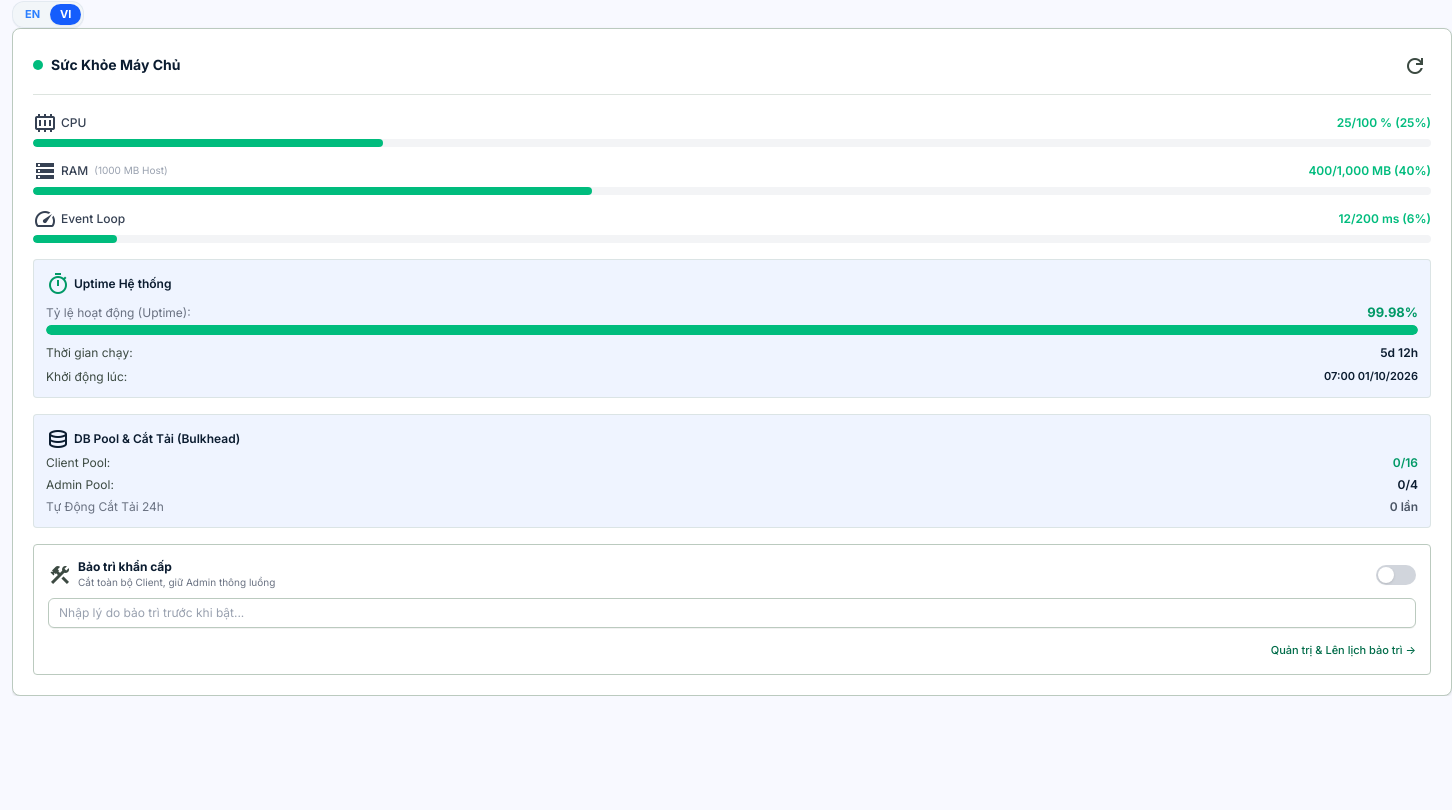
Test: Admin-web Phase 1 i18n Suite — Shared Components, Modals & Layouts › 4. ServerHealthPanel i18n Verification › 4.1. Chuyển đổi chính xác ServerHealthPanel giữa VI và EN
Expected: the heading "Sức Khỏe Máy Chủ" is shown, [51, 55, 180, 75]
Expected: the text "Bảo trì khẩn cấp" is shown, [78, 560, 172, 576]
# Đổi sang EN
Click the button with test id "lang-btn-en" at (33, 14), box [15, 4, 50, 24]
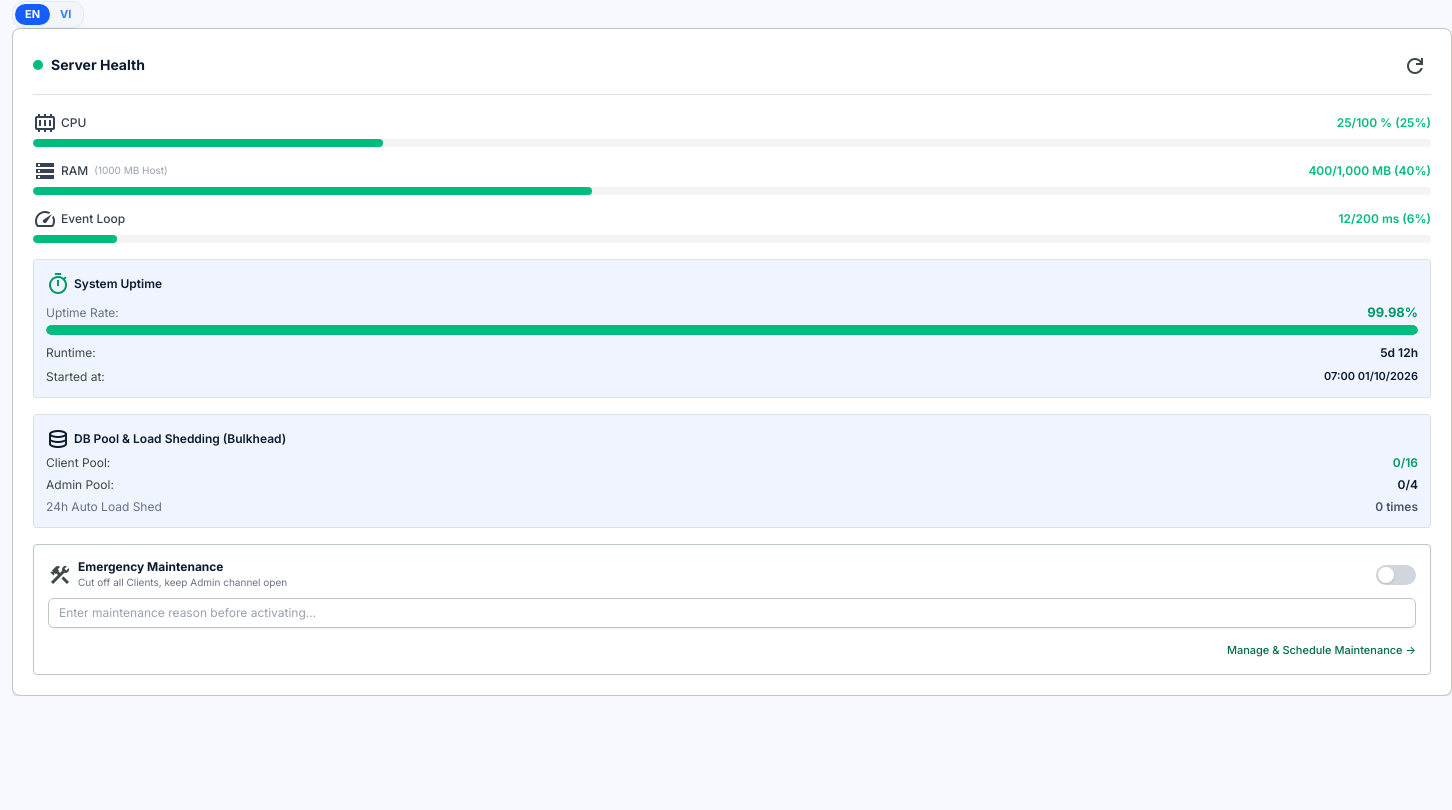
Now the heading "Server Health" is shown, box [51, 55, 145, 75]
Now the text "Emergency Maintenance" is shown, box [78, 560, 224, 576]
Now the text "Cut off all Clients, keep Admin channel open" is shown, box [78, 576, 287, 590]
# Đổi lại VI
Click the button with test id "lang-btn-vi" at (66, 14), box [50, 4, 81, 24]
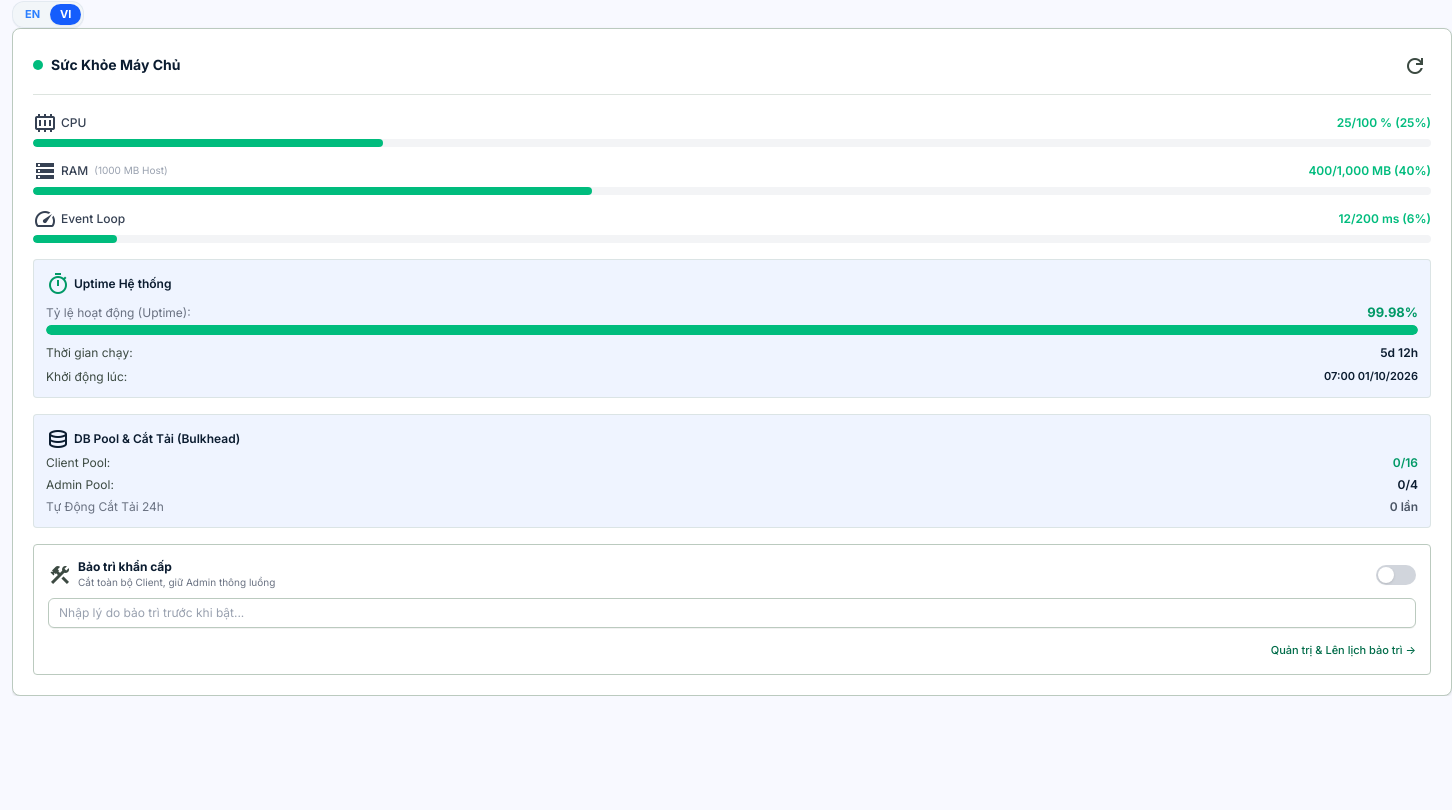
Now the heading "Sức Khỏe Máy Chủ" is shown, box [51, 55, 180, 75]
Now the text "Bảo trì khẩn cấp" is shown, box [78, 560, 172, 576]
